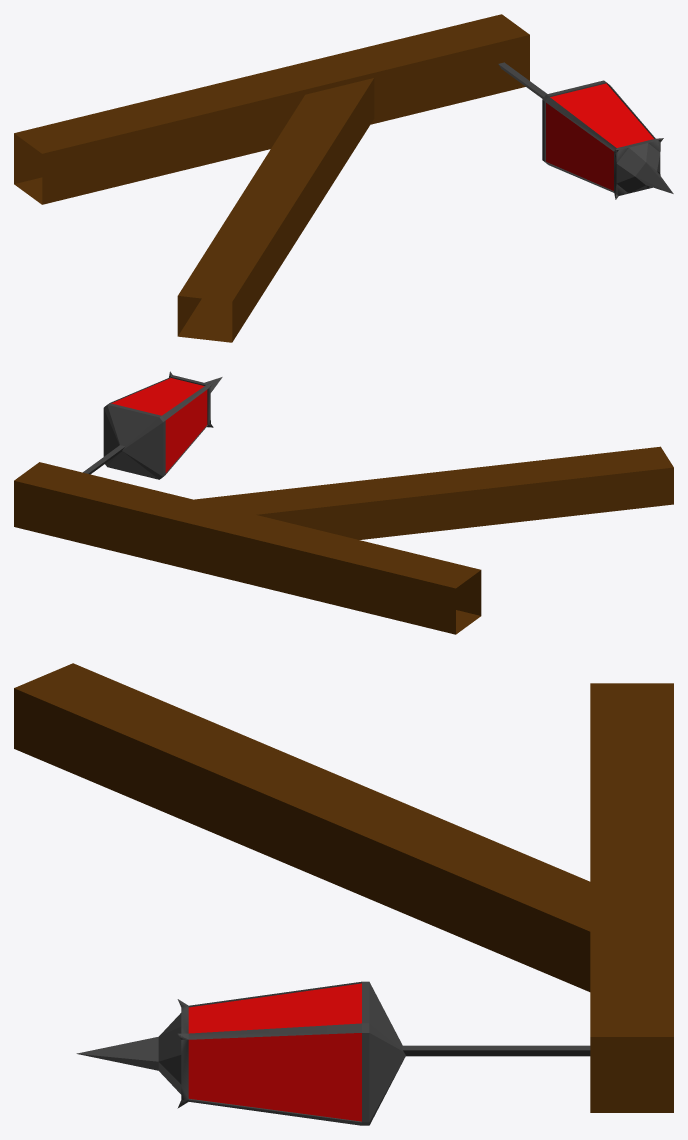
Rendered from HouseLamp.fbx.
3 views of the same model, one above another, from view 1: azimuth 30°, elevation 25°; view 2: azimuth 150°, elevation 25°; view 3: azimuth 270°, elevation 25° (orthographic). The views are drawn at different scales.
Visible parts, largest first — view 1: HouseLamp; view 2: HouseLamp; view 3: HouseLamp.
Boxes of the visible parts, left/top/right/bottom form: HouseLamp: left=14, top=14, right=673, bottom=342; HouseLamp: left=14, top=371, right=673, bottom=634; HouseLamp: left=14, top=663, right=673, bottom=1125.
Bounding box in the file's own units: 21728 × 2700 × 15778.
